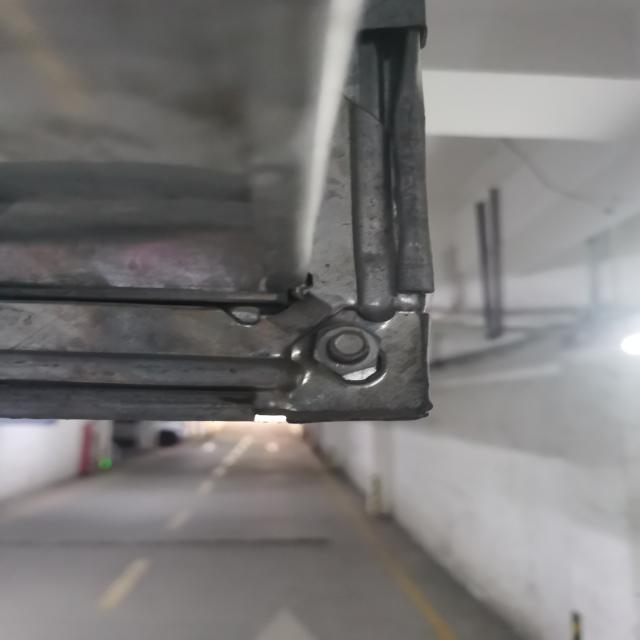bolt nut: (310, 321, 382, 379)
